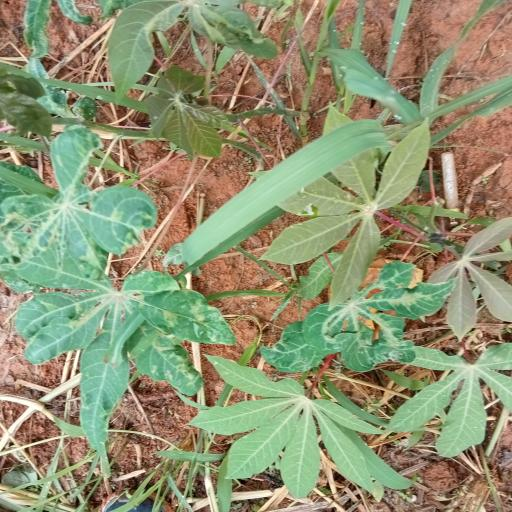Cassava_Mosaic: (262, 119, 430, 304), (14, 289, 234, 430), (199, 353, 405, 497), (5, 132, 151, 291)
